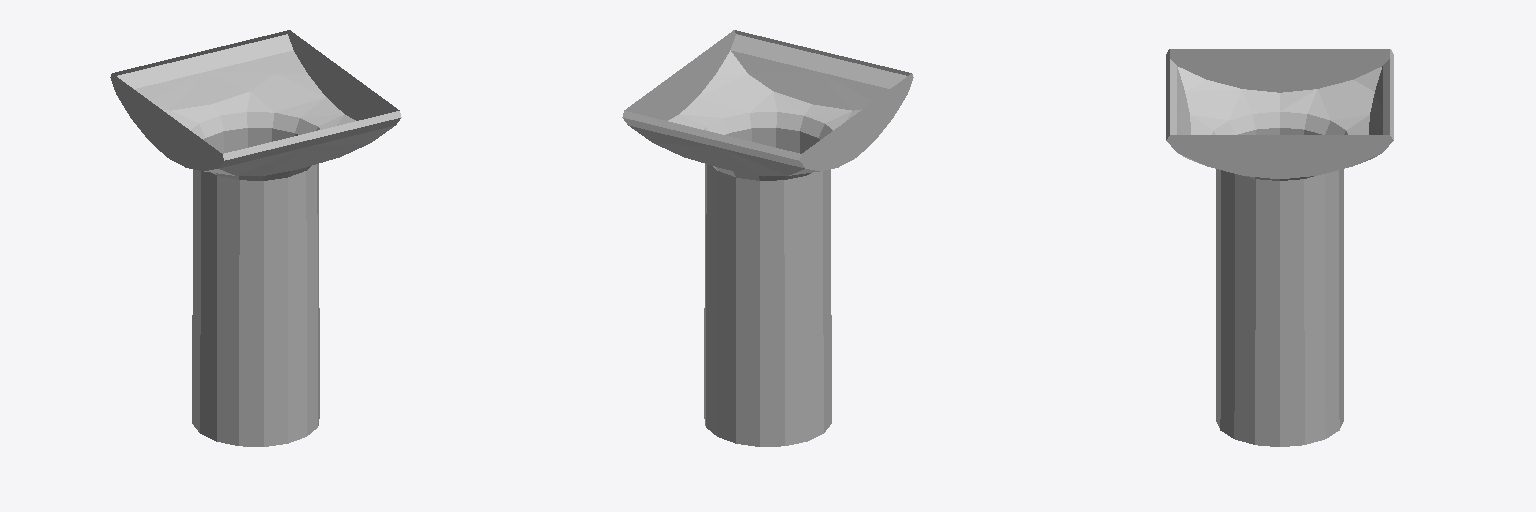
Rendered from SeatPost_LOD1-sharedassets2.assets-208.obj.
The picture shows the model from 3 angles: view 1: azimuth 30°, elevation 25°; view 2: azimuth 150°, elevation 25°; view 3: azimuth 270°, elevation 25°; orthographic projection.
Parts seen in each view (by area): view 1: SeatPost_LOD1_0; view 2: SeatPost_LOD1_0; view 3: SeatPost_LOD1_0.
Part boxes in pixels (left/top/right/bottom): SeatPost_LOD1_0: left=110, top=30, right=401, bottom=446; SeatPost_LOD1_0: left=622, top=30, right=913, bottom=446; SeatPost_LOD1_0: left=1166, top=49, right=1393, bottom=446.
Size of the model in its own units: 0.0408 by 0.0721 by 0.0453.